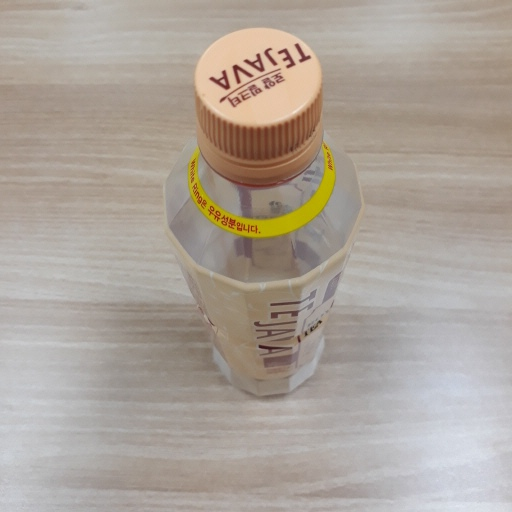Plastic_0: (160, 28, 366, 399)
